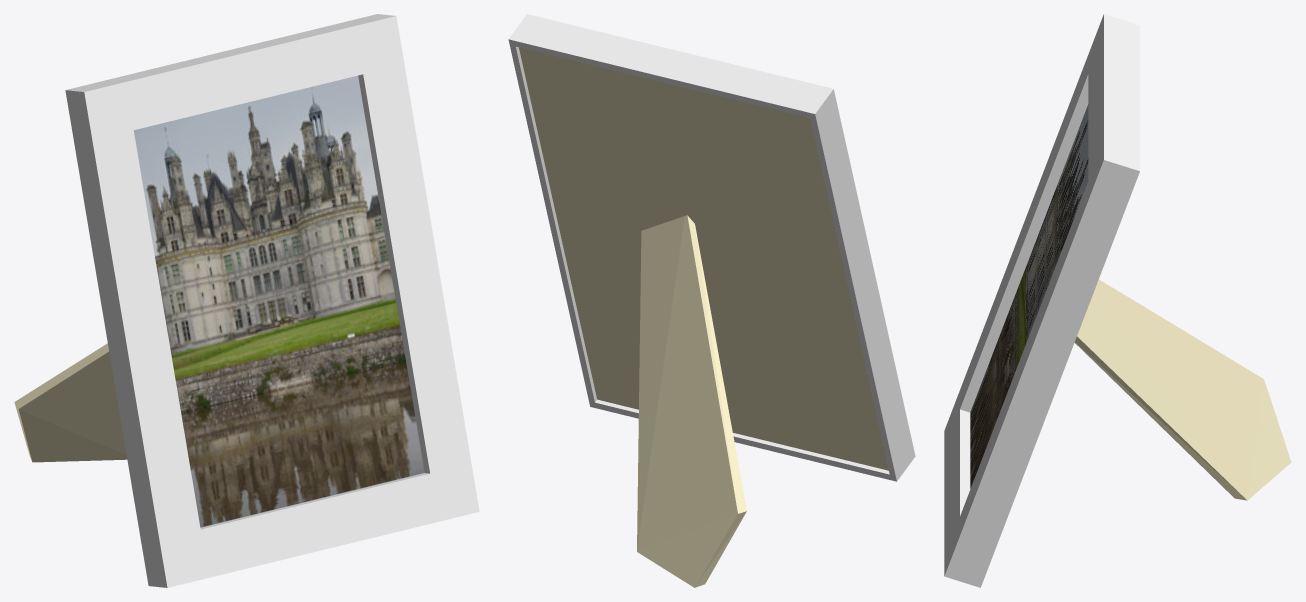
File: sweethome3d-scopia-frame-chambord-112.glb
3 renders of one model, left to right at view 1: azimuth 30°, elevation 25°; view 2: azimuth 150°, elevation 25°; view 3: azimuth 270°, elevation 25°, orthographic. The views are drawn at different scales.
Parts seen in each view (by area): view 1: frame1_Cube.001; view 2: frame1_Cube.001; view 3: frame1_Cube.001.
Boxes of the visible parts, bbox=[...] form: frame1_Cube.001: bbox=[14, 14, 479, 587]; frame1_Cube.001: bbox=[508, 14, 915, 587]; frame1_Cube.001: bbox=[944, 14, 1291, 587].
Bounding box in the file's own units: 2 × 2.74 × 2.01.
Materials: 4 (1 with a texture image).
